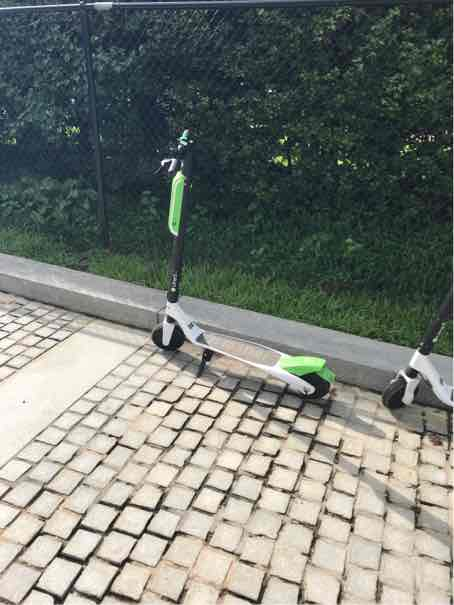scooter: (141, 95, 341, 401)
